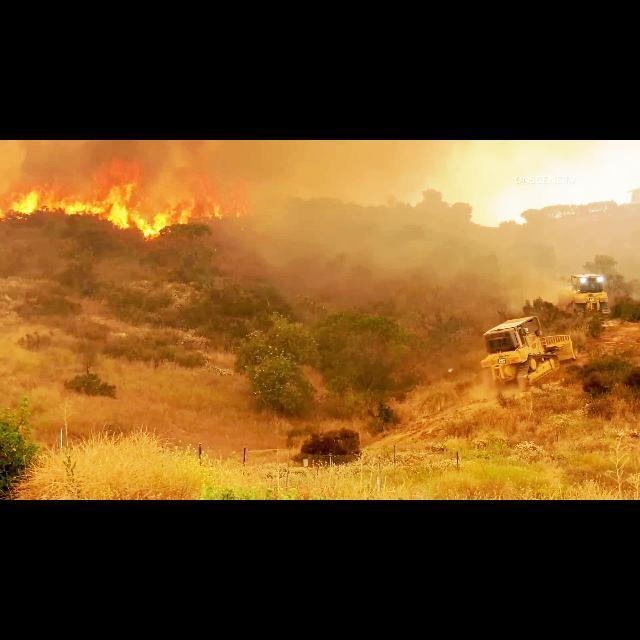Fire: (89, 142, 167, 228), (131, 182, 241, 226), (5, 172, 73, 222)
